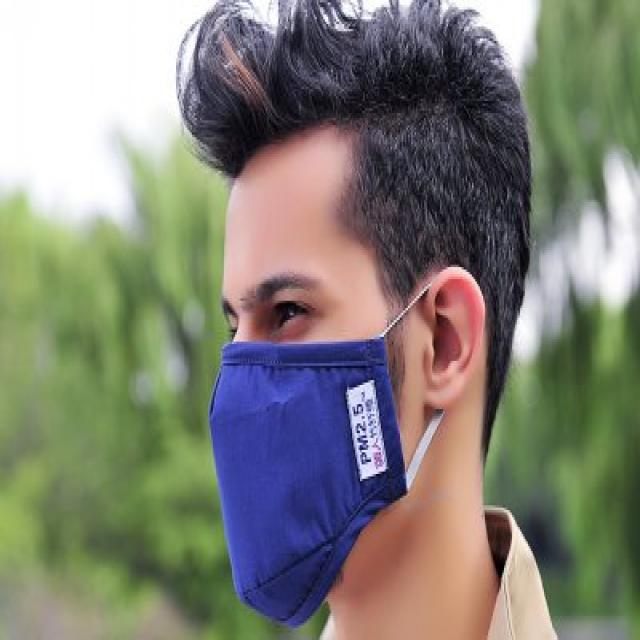mask: (214, 168, 407, 612)
